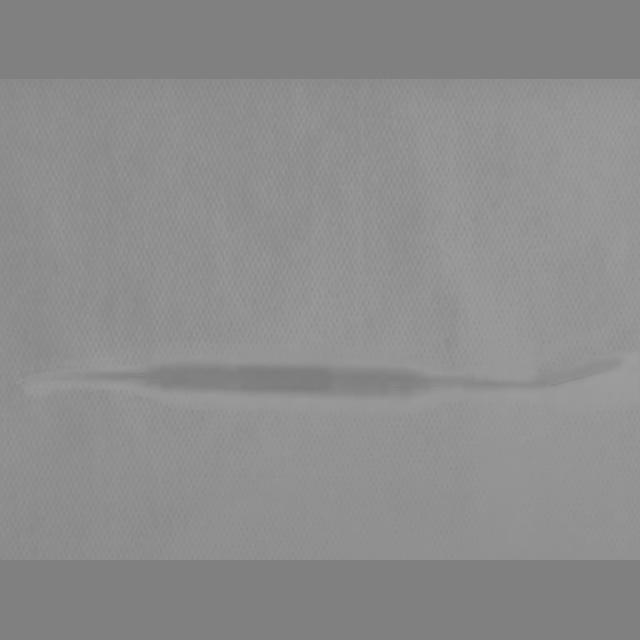elevador: (28, 359, 624, 406)
